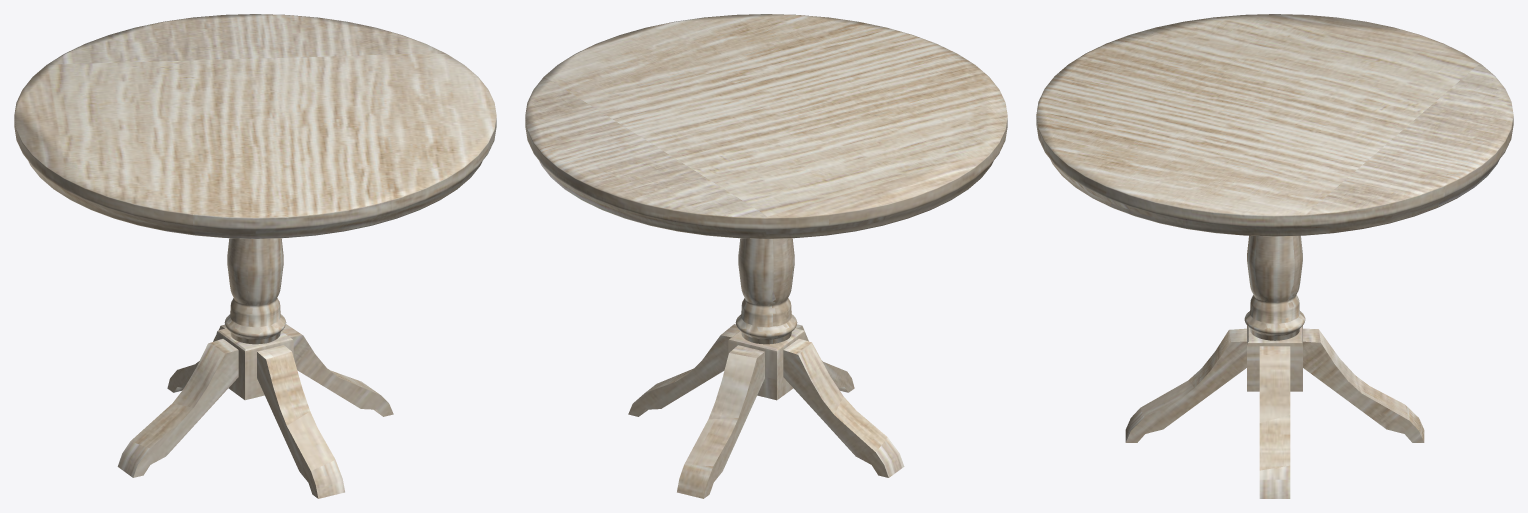
File: стол.FBX
The picture shows the model from 3 angles, left to right: view 1: azimuth 30°, elevation 25°; view 2: azimuth 150°, elevation 25°; view 3: azimuth 270°, elevation 25°; orthographic projection.
Visible parts, largest first — view 1: Cylinder039; view 2: Cylinder039; view 3: Cylinder039.
Boxes of the visible parts, bbox=[...] form: Cylinder039: bbox=[14, 14, 496, 498]; Cylinder039: bbox=[525, 14, 1007, 498]; Cylinder039: bbox=[1036, 14, 1513, 498].
Size of the model in its own units: 763 by 569 by 763.
